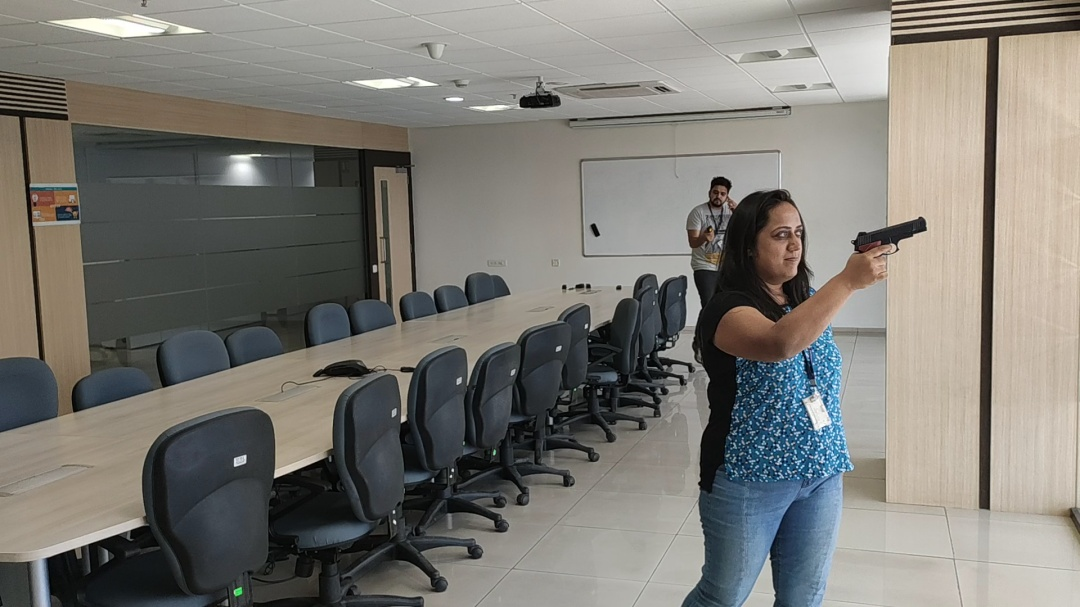gun: (850, 216, 928, 256)
